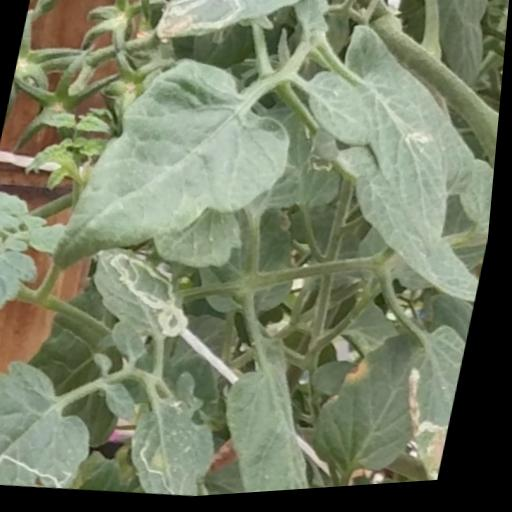Early Blight: (312, 324, 440, 483)
Healthy: (54, 40, 313, 290), (214, 329, 352, 499)
Leaf_Miner: (297, 18, 509, 322), (0, 340, 121, 498), (390, 322, 478, 490), (83, 238, 209, 351), (125, 387, 237, 504), (149, 0, 327, 62)
